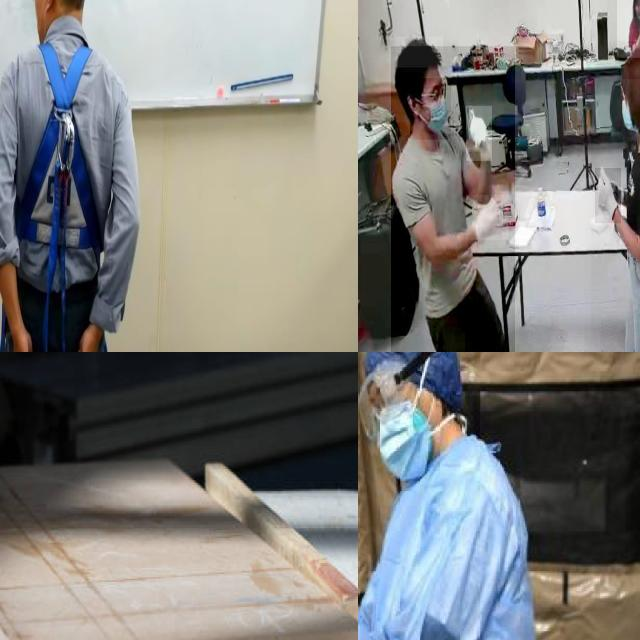Harness: (0, 42, 112, 352)
No_Ear-Protection: (42, 0, 53, 13)
face_mask: (362, 379, 450, 478), (410, 78, 451, 140)
face_nomask: (634, 0, 640, 18)
glasses: (358, 360, 409, 436)
hand_glove: (466, 195, 508, 240), (466, 106, 492, 161), (595, 168, 621, 223)
hand_noglove: (638, 21, 640, 39)
head_nohelmet: (361, 352, 452, 380), (396, 36, 444, 68), (619, 41, 640, 80)
person: (358, 352, 588, 640), (390, 46, 515, 352), (591, 56, 640, 352), (617, 0, 640, 57)
